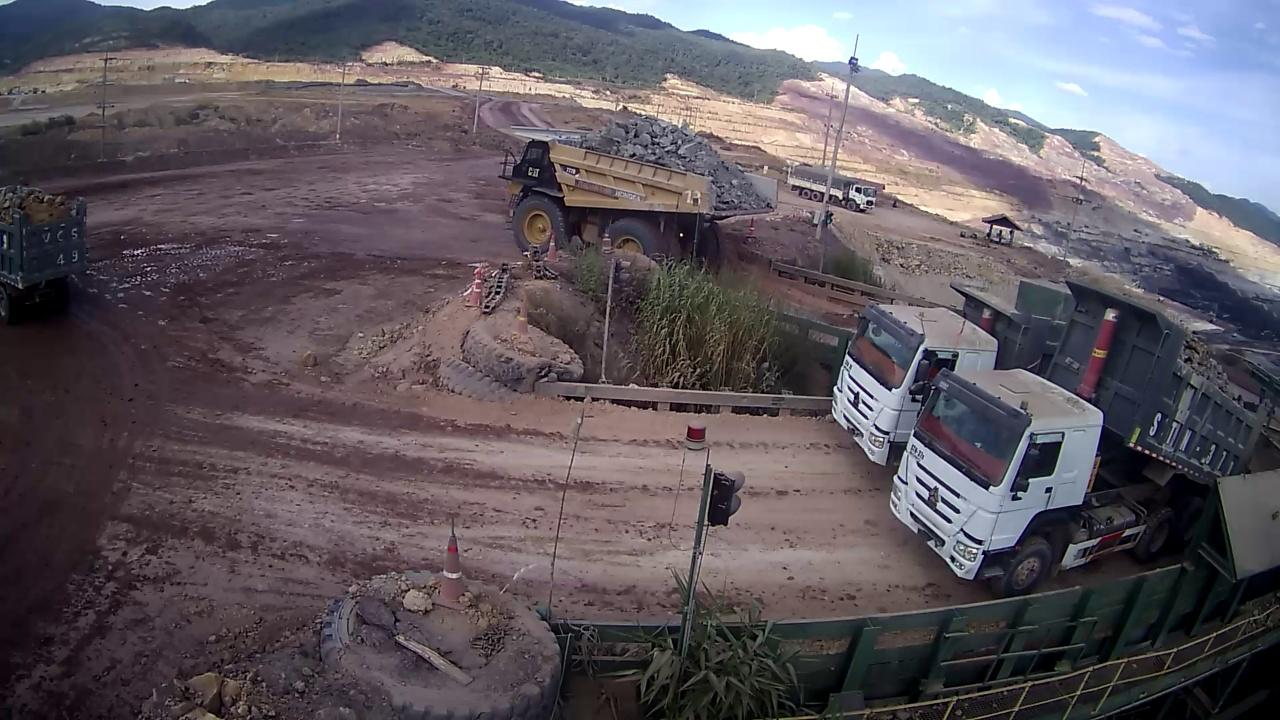full_load: (602, 111, 726, 167)
mining_truck: (496, 105, 791, 270)
tail_number: (686, 183, 703, 210)
truck_size: (559, 162, 582, 179)
